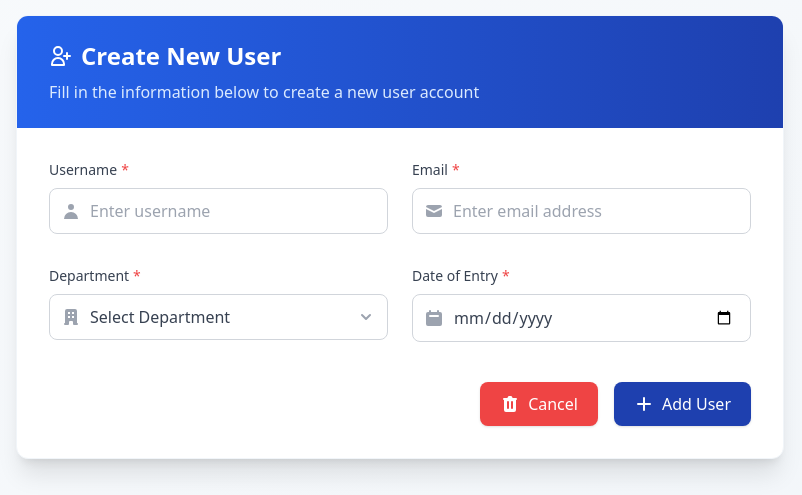
Test case: UserCreate Component › shows loading state during form submission
This screenshot has width=802, height=495.
Type "testuser" into the field labelled "Username*" at [218, 211], box [49,188,388,234]
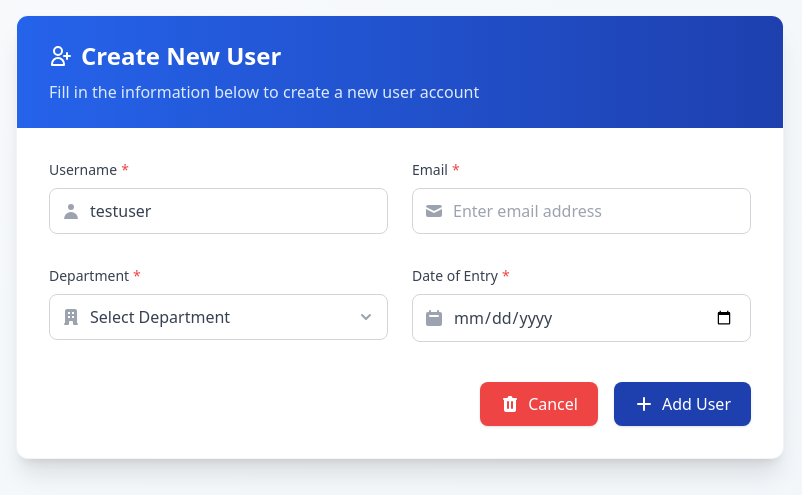
Type "test@example.com" into the field labelled "Email*" at [582, 211], box [412,188,751,234]
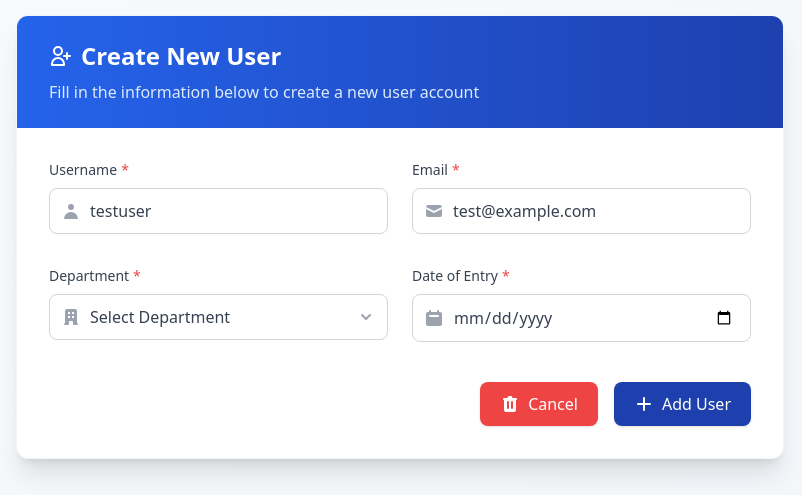
Select "IT" in the dropdown labelled "Department*" at [218, 317], box [49,294,388,340]
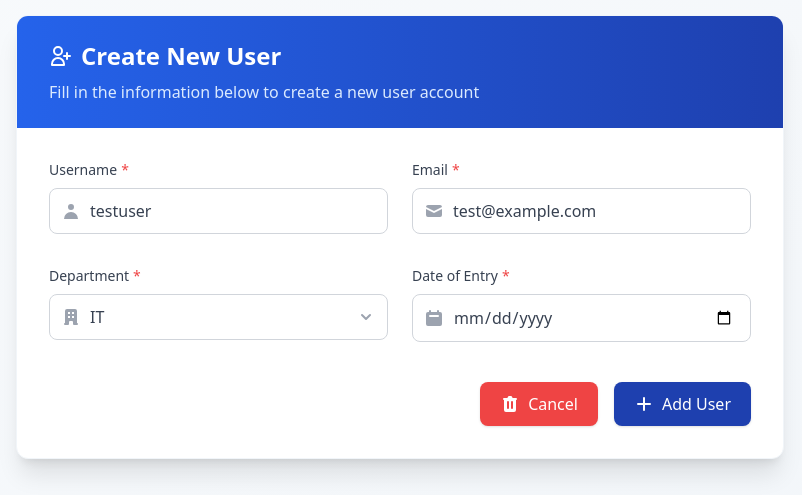
Type "2023-01-01" into the date field labelled "Date of Entry*" at [582, 318], box [412,294,751,342]
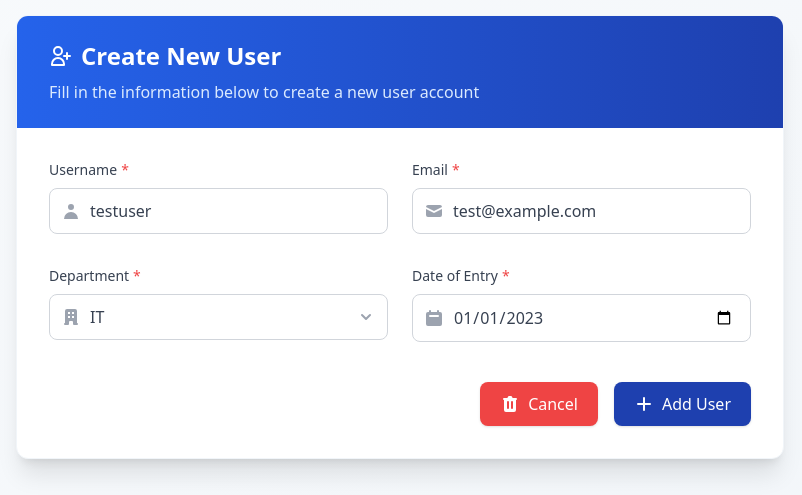
Note: Submit the form
Click the button "Add User" at [682, 404], box [614,382,751,426]
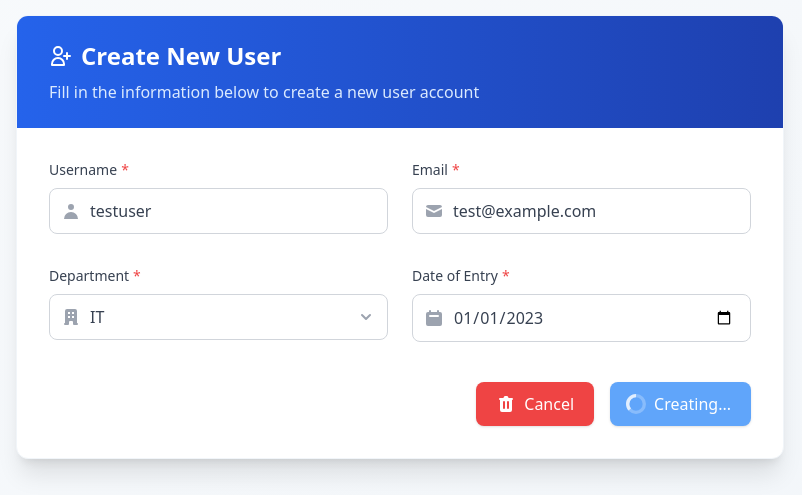
Expected: the button "Creating..." is disabled, [610,382,751,426]
